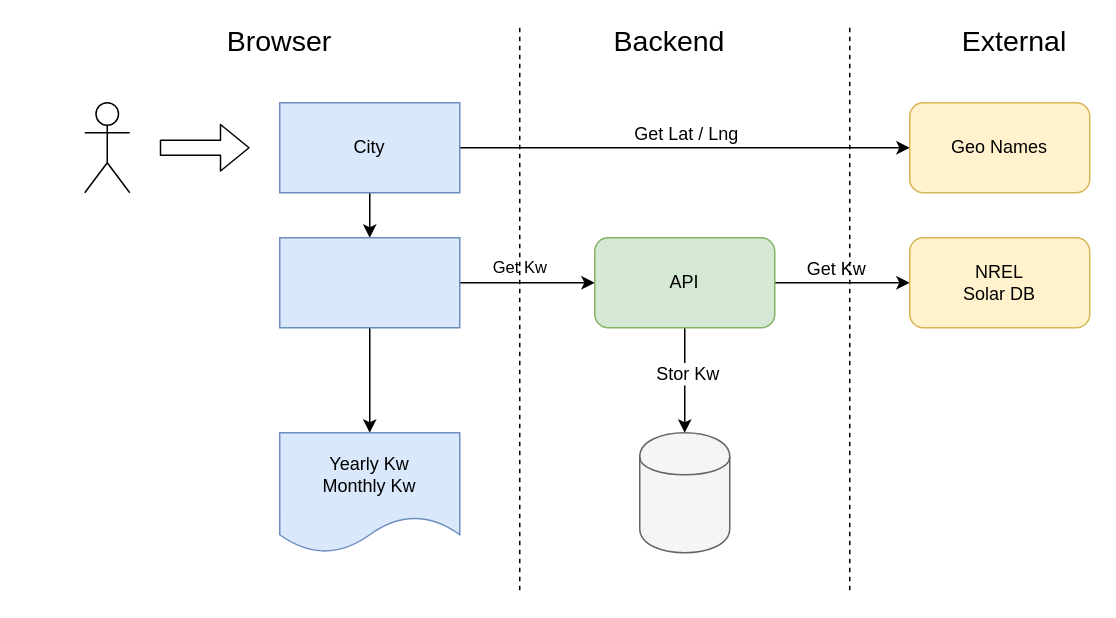
Some shapes in this 1116 by 618 pixel diagram are drawn without their labels. The shapes that lost their labels are listed below. From the top down, each one's centre as x and y in pixels, then its label:
pixel 106 147: I want to mount solar panels on my house
pixel 369 282: Solar Output
pixel 684 492: DB
